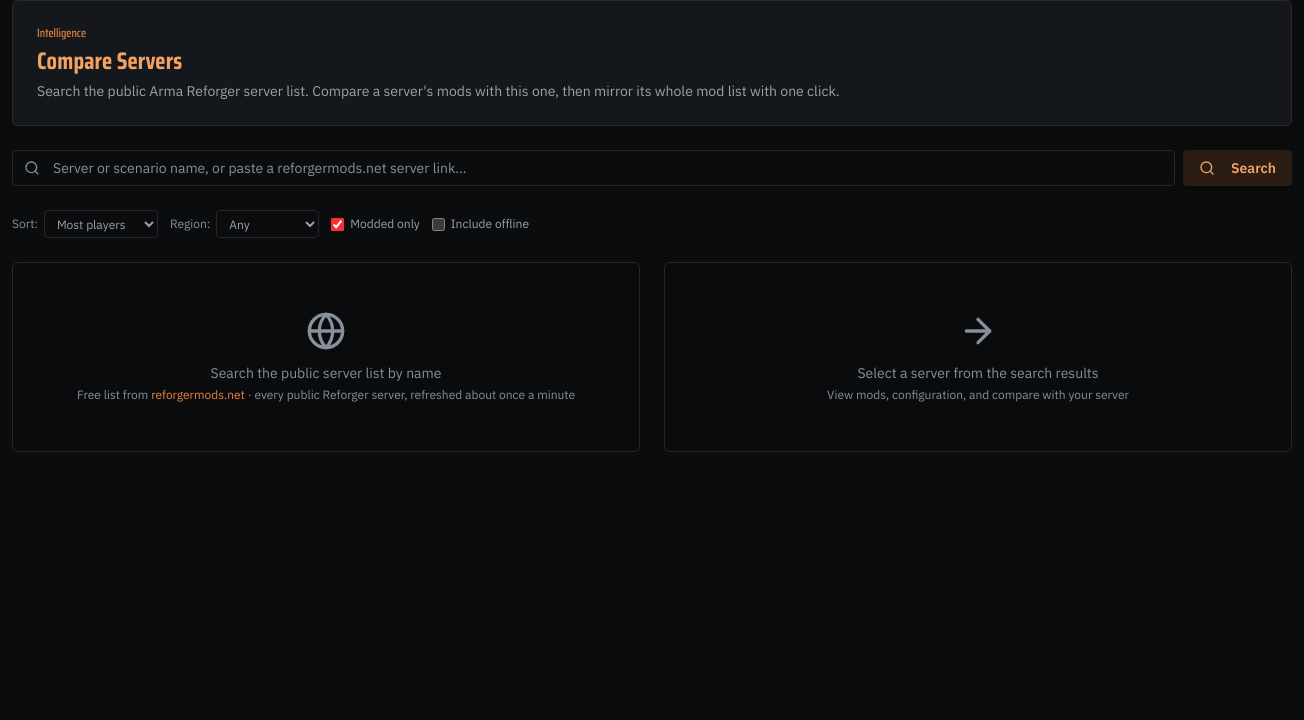
Compare / Mirror on the free server list › says an address cannot be searched instead of pretending to look it up
Replace the text in the field named "Search public servers" with "198.51.100.20:2002" at point(594, 168), box [12, 150, 1175, 186]
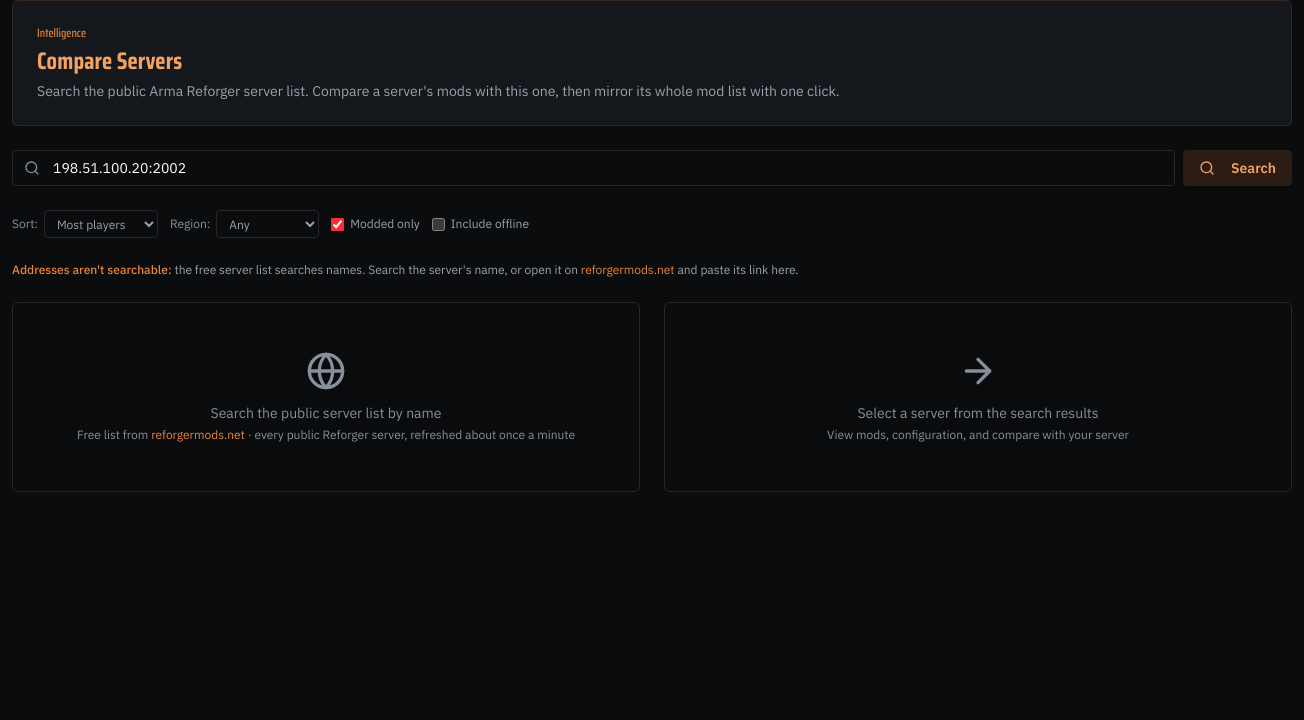
expect the text "Addresses aren't searchable:" is shown: met, box [12, 262, 172, 277]
